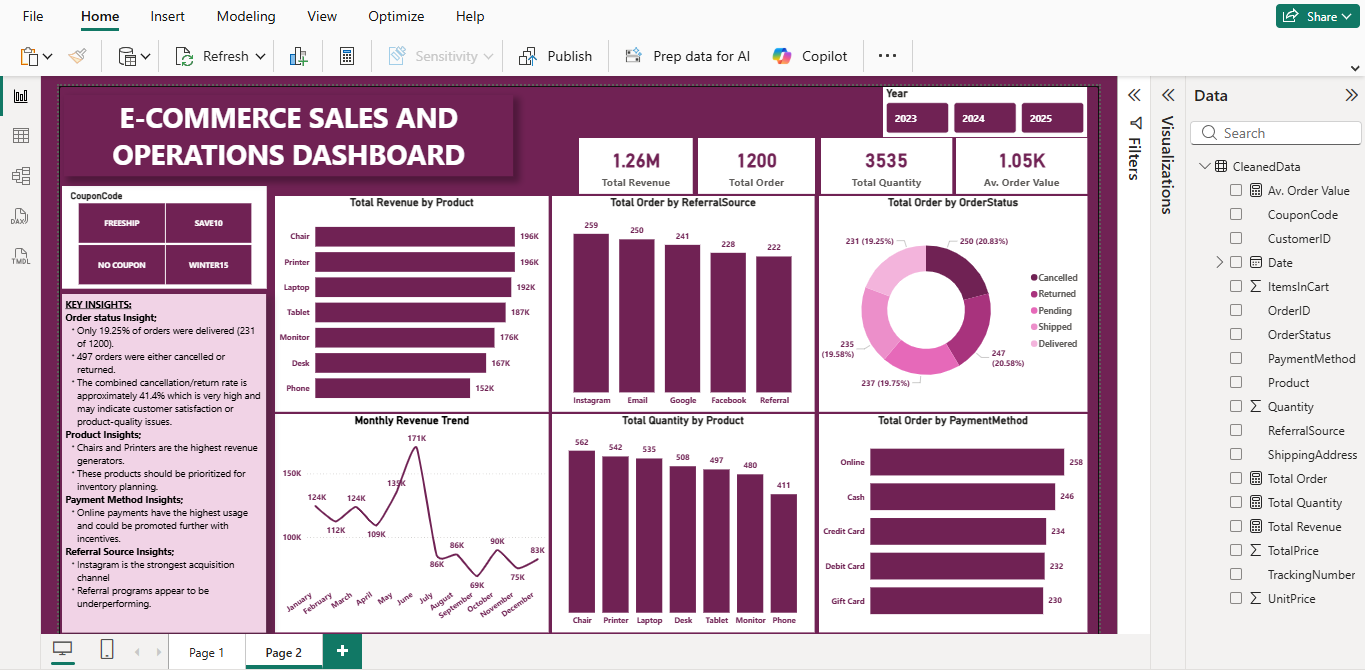

Layout of this report page (visuals, bound fields, positions):
{"tool":"powerbi","page":{"name":"Page 2","canvas":[1600,850],"ordinal":1},"visuals":[{"type":"barChart","fields":{"Category":["CleanedData.Product"],"Y":["CleanedData.Total Revenue"]},"box":[332.1,169.6,421.4,332.1],"z":0},{"type":"columnChart","fields":{"Category":["CleanedData.Product"],"Y":["CleanedData.Total Quantity"]},"box":[758.9,505.4,403.6,335.7],"z":1000},{"type":"lineChart","title":"Monthly Revenue Trend","fields":{"Category":["CleanedData.Date.Variation.Date Hierarchy.Month"],"Y":["CleanedData.Total Revenue"]},"box":[332.1,505.4,421.4,335.7],"z":2000},{"type":"clusteredColumnChart","fields":{"Y":["CleanedData.Total Order"],"Category":["CleanedData.ReferralSource"]},"box":[758.9,169.6,403.6,332.1],"z":3000},{"type":"barChart","fields":{"Category":["CleanedData.PaymentMethod"],"Y":["CleanedData.Total Order"]},"box":[1169.6,505.4,412.5,335.7],"z":4000},{"type":"donutChart","fields":{"Category":["CleanedData.OrderStatus"],"Y":["CleanedData.Total Order"]},"box":[1169.6,169.6,412.5,332.1],"z":5000},{"type":"card","fields":{"Values":["CleanedData.Total Revenue"]},"box":[800.3,80.4,175,85.7],"z":6000},{"type":"card","fields":{"Values":["CleanedData.Total Order"]},"box":[982.4,80.4,180.4,85.7],"z":7000},{"type":"card","fields":{"Values":["CleanedData.Total Quantity"]},"box":[1171.7,80.4,201.8,85.7],"z":8000},{"type":"card","fields":{"Values":["CleanedData.Av. Order Value"]},"box":[1380.6,80.4,201.8,85.7],"z":9000},{"type":"advancedSlicerVisual","fields":{"Values":["CleanedData.Date.Variation.Date Hierarchy.Year"]},"box":[1267.9,1.8,314.3,76.8],"z":10000},{"type":"slicer","fields":{"Values":["CleanedData.CouponCode"]},"box":[4.6,153.8,315.4,158.5],"z":11000},{"type":"textbox","box":[5.4,319.6,314.3,521.4],"z":12000},{"type":"textbox","box":[7.1,14.3,691.1,125],"z":13000}]}

Visuals, with their boxes on the page's 1600x850 design canvas (x1, y1, x2, y2). These are canvas units, not pixel positions in the 1365x670 screenshot, which may show the page scaled, cropped or inside an application window:
barChart - CleanedData.Product x CleanedData.Total Revenue: locate(332, 170, 754, 502)
columnChart - CleanedData.Product x CleanedData.Total Quantity: locate(759, 505, 1162, 841)
"Monthly Revenue Trend" lineChart: locate(332, 505, 754, 841)
clusteredColumnChart - CleanedData.Total Order x CleanedData.ReferralSource: locate(759, 170, 1162, 502)
barChart - CleanedData.PaymentMethod x CleanedData.Total Order: locate(1170, 505, 1582, 841)
donutChart - CleanedData.OrderStatus x CleanedData.Total Order: locate(1170, 170, 1582, 502)
card - CleanedData.Total Revenue: locate(800, 80, 975, 166)
card - CleanedData.Total Order: locate(982, 80, 1163, 166)
card - CleanedData.Total Quantity: locate(1172, 80, 1374, 166)
card - CleanedData.Av. Order Value: locate(1381, 80, 1582, 166)
advancedSlicerVisual - CleanedData.Date.Variation.Date Hierarchy.Year: locate(1268, 2, 1582, 79)
slicer - CleanedData.CouponCode: locate(5, 154, 320, 312)
textbox: locate(5, 320, 320, 841)
textbox: locate(7, 14, 698, 139)
